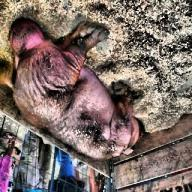boar: (0, 19, 145, 162)
